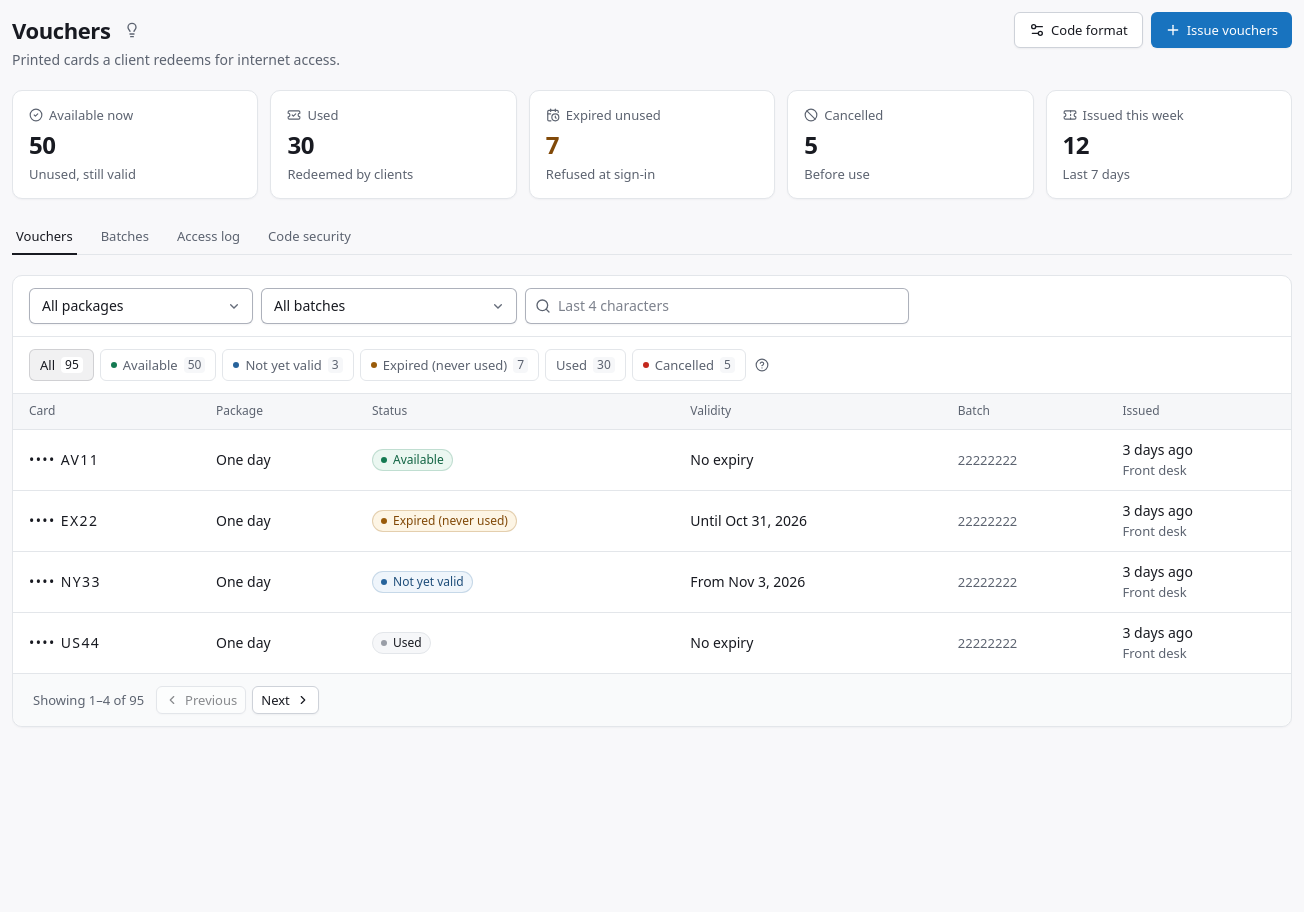
it: code format › shows the format history
expect the text "•••• AV11" is shown: met, box x1=13 y1=430 x2=200 y2=491
Step 1. Click the tab "Code security" → [309, 237], box x1=264 y1=219 x2=355 y2=255
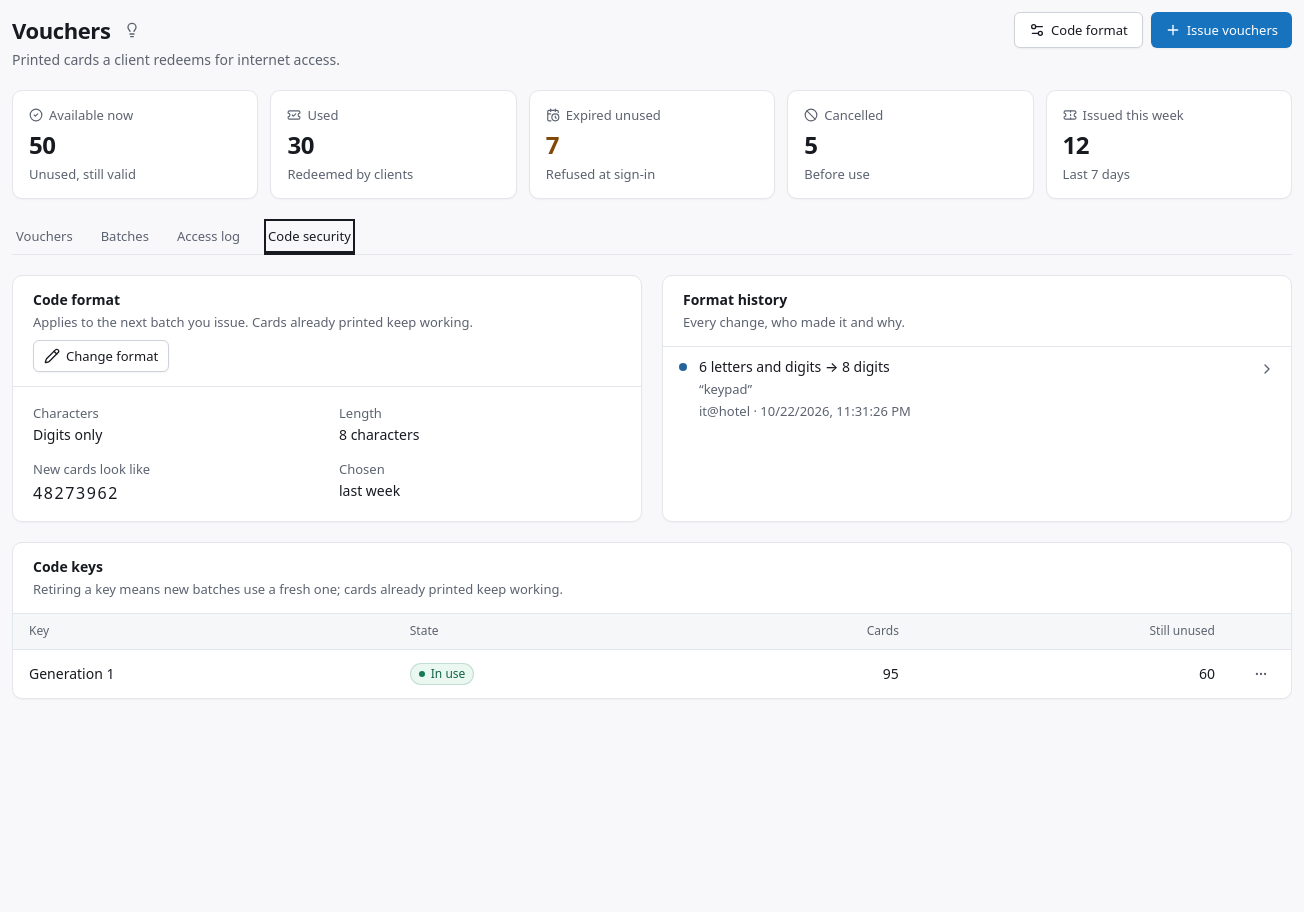
expect the text "6 letters and digits → 8 digits" is shown: met, box x1=699 y1=357 x2=890 y2=377
expect the text "“keypad”" is shown: met, box x1=698 y1=379 x2=752 y2=398
